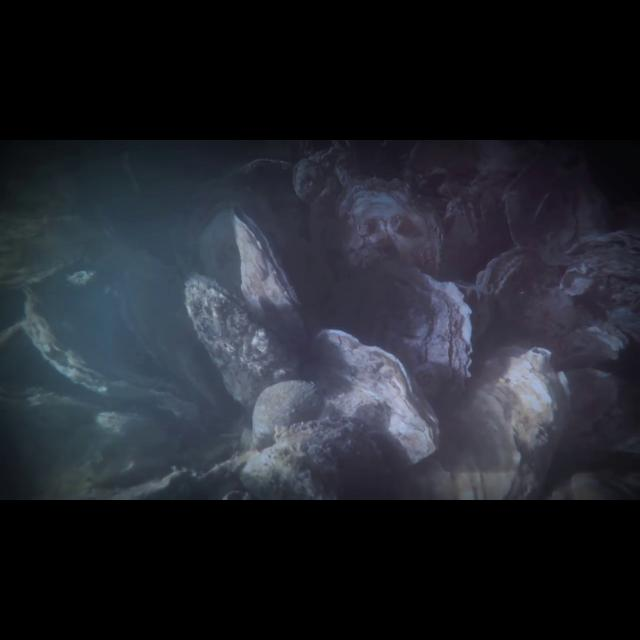Oyster-Closed: (17, 288, 203, 420), (420, 344, 572, 500), (334, 263, 477, 409), (305, 327, 447, 474), (107, 255, 235, 414), (182, 272, 300, 411), (334, 177, 449, 274), (478, 246, 546, 299)
Oyster-Open: (225, 206, 313, 368)
